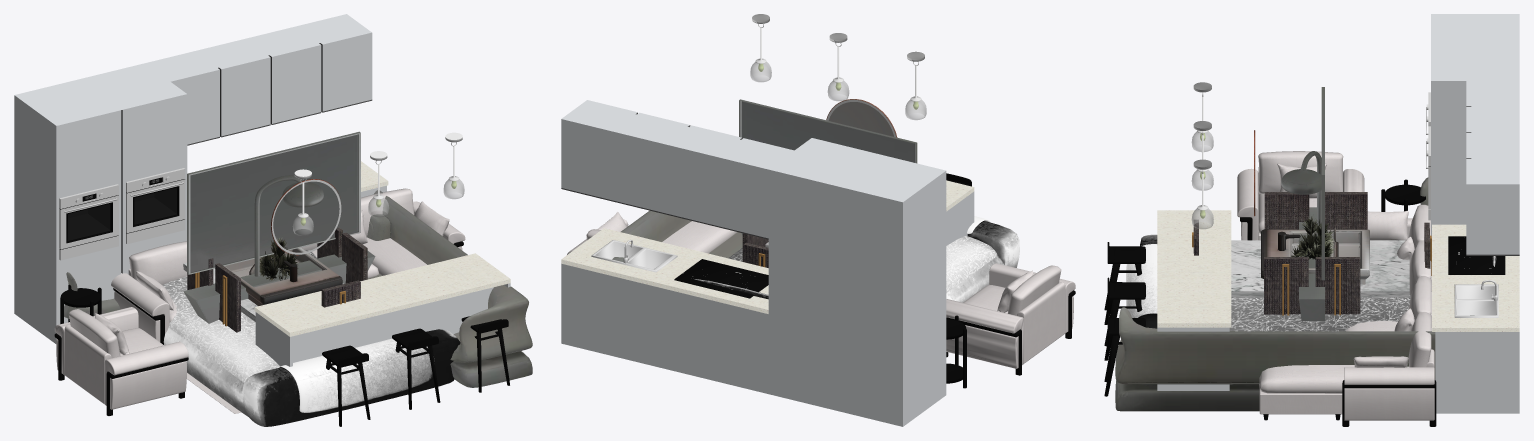
Rendered from villa_furn.glb.
The picture shows the model from 3 angles, left to right: view 1: azimuth 30°, elevation 25°; view 2: azimuth 150°, elevation 25°; view 3: azimuth 270°, elevation 25°; orthographic projection. The views are drawn at different scales.
Parts seen in each view (by area): view 1: kitchen, lounge, tv, bed, sofa_l, dining, vanity, lamp, plant; view 2: kitchen, lounge, tv, bed, sofa_l, vanity, dining; view 3: kitchen, lounge, sofa_l, dining, bed, vanity, tv, lamp, plant.
Boxes of the visible parts, left/top/right/bottom form: kitchen: left=14, top=14, right=510, bottom=426; lounge: left=54, top=188, right=465, bottom=415; tv: left=183, top=131, right=375, bottom=323; bed: left=162, top=250, right=460, bottom=426; sofa_l: left=64, top=190, right=532, bottom=387; dining: left=183, top=227, right=367, bottom=332; vanity: left=215, top=179, right=342, bottom=305; lamp: left=254, top=175, right=323, bottom=276; plant: left=259, top=237, right=298, bottom=280; kitchen: left=561, top=14, right=974, bottom=426; lounge: left=567, top=212, right=1075, bottom=388; tv: left=739, top=99, right=917, bottom=235; bed: left=694, top=216, right=1019, bottom=302; sofa_l: left=612, top=210, right=742, bottom=261; vanity: left=765, top=99, right=897, bottom=247; dining: left=742, top=233, right=768, bottom=267; kitchen: left=1104, top=14, right=1519, bottom=413; lounge: left=1237, top=151, right=1436, bottom=426; sofa_l: left=1115, top=177, right=1474, bottom=411; dining: left=1192, top=192, right=1431, bottom=315; bed: left=1126, top=234, right=1496, bottom=331; vanity: left=1254, top=130, right=1369, bottom=284; tv: left=1299, top=87, right=1324, bottom=321; lamp: left=1281, top=151, right=1321, bottom=236; plant: left=1291, top=214, right=1335, bottom=259.
Size of the model in its own units: 4.82 by 2.49 by 4.09.
23 materials, 21 textured.
